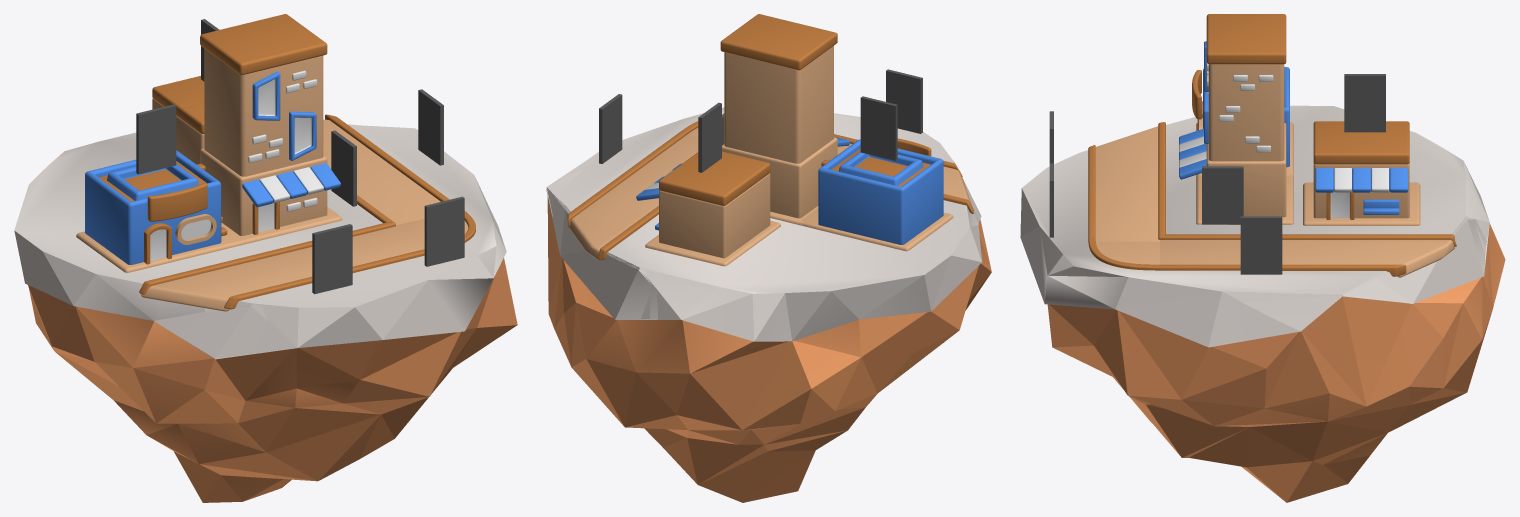
File: sample-island.glb
3 renders of one model, left to right at view 1: azimuth 30°, elevation 25°; view 2: azimuth 150°, elevation 25°; view 3: azimuth 270°, elevation 25°, orthographic. The views are drawn at different scales.
Parts seen in each view (by area): view 1: Sphere_2.010, Sphere_2.008, building 1.002, road.014, Cube.130, Cube.101, road.018, Cube.123, billboard besar.007, billboard besar.006, billboard besar.008, Cube.111 (+17 smaller); view 2: Sphere_2.010, Sphere_2.008, building 1.002, Cube.130, Cube.137, road.018, Cube.101, Cube.133, Cube.123, billboard besar.006, billboard besar.007, billboard besar.011 (+8 smaller); view 3: Sphere_2.010, Sphere_2.008, building 1.002, road.014, road.018, Cube.101, Cube.133, Cube.123, billboard besar.009, billboard besar.011, billboard besar.010, Cube.134 (+12 smaller).
Part boxes in pixels (x1,y1,x2,y2): Sphere_2.010: (28, 258, 517, 502); Sphere_2.008: (14, 124, 506, 359); building 1.002: (204, 48, 323, 176); road.014: (141, 224, 424, 311); Cube.130: (85, 150, 221, 264); Cube.101: (200, 14, 327, 75); road.018: (323, 119, 440, 225); Cube.123: (200, 148, 327, 235); billboard besar.007: (312, 224, 352, 294); billboard besar.006: (136, 104, 176, 174); billboard besar.008: (424, 196, 464, 266); Cube.111: (242, 163, 340, 207); Sphere_2.010: (547, 197, 991, 502); Sphere_2.008: (546, 107, 981, 341); building 1.002: (724, 46, 833, 163); Cube.130: (818, 139, 943, 244); Cube.137: (659, 173, 770, 258); road.018: (569, 134, 698, 261); Cube.101: (720, 14, 837, 70); Cube.133: (659, 151, 770, 205); Cube.123: (722, 137, 837, 218); billboard besar.006: (860, 96, 897, 160); billboard besar.007: (886, 69, 922, 133); billboard besar.011: (698, 102, 721, 172); Sphere_2.010: (1047, 223, 1505, 502); Sphere_2.008: (1020, 105, 1489, 347); building 1.002: (1208, 64, 1284, 161); road.014: (1095, 126, 1159, 241); road.018: (1160, 240, 1454, 277); Cube.101: (1206, 14, 1286, 64); Cube.133: (1313, 121, 1409, 164); Cube.123: (1206, 123, 1286, 217); billboard besar.009: (1240, 216, 1282, 274); billboard besar.011: (1344, 74, 1385, 132); billboard besar.010: (1202, 166, 1243, 224); Cube.134: (1315, 168, 1408, 192).
Size of the model in its own units: 5.11 by 5.56 by 5.33.
